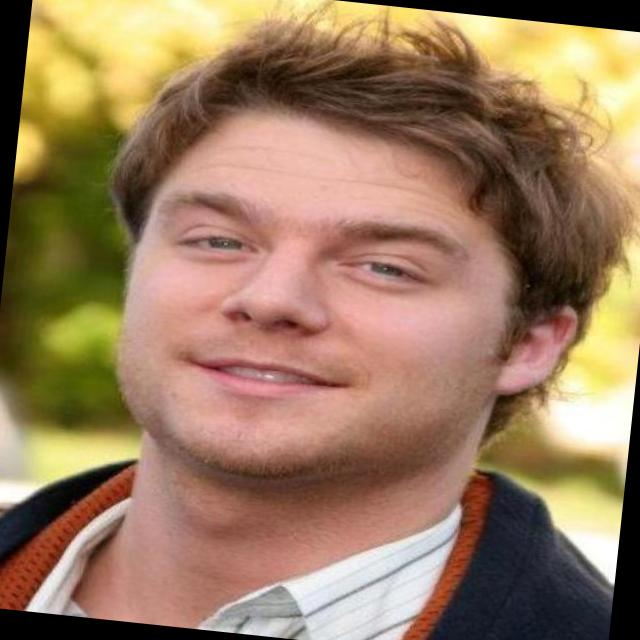bareface: (91, 31, 607, 513)
